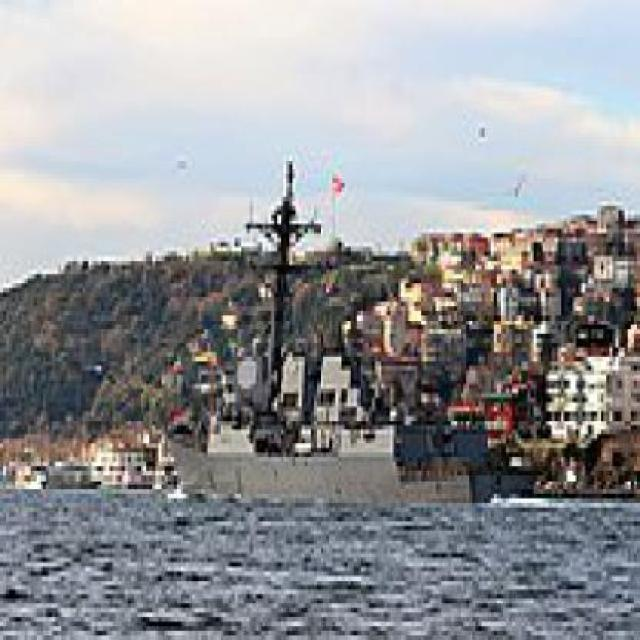warship2: (150, 189, 507, 509)
